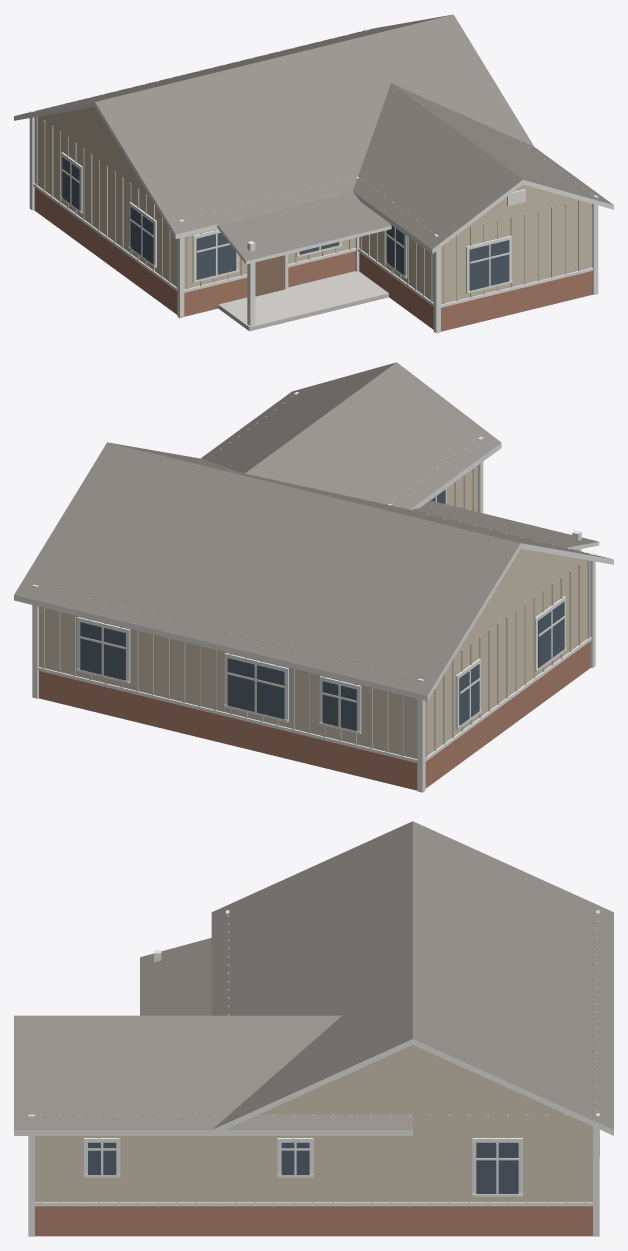
The model's file is pistachio-craftsman.glb.
3 views of the same model, one above another, from view 1: azimuth 30°, elevation 25°; view 2: azimuth 150°, elevation 25°; view 3: azimuth 270°, elevation 25° (orthographic). The views are drawn at different scales.
Parts seen in each view (by area): view 1: The Pistachio (craftsman); view 2: The Pistachio (craftsman); view 3: The Pistachio (craftsman).
Boxes of the visible parts, x1,y1,x2,y2 form: The Pistachio (craftsman): (14,14,613,333); The Pistachio (craftsman): (14,362,613,792); The Pistachio (craftsman): (14,821,613,1236).
Bounding box in the file's own units: 11.12 × 4.88 × 12.95.
